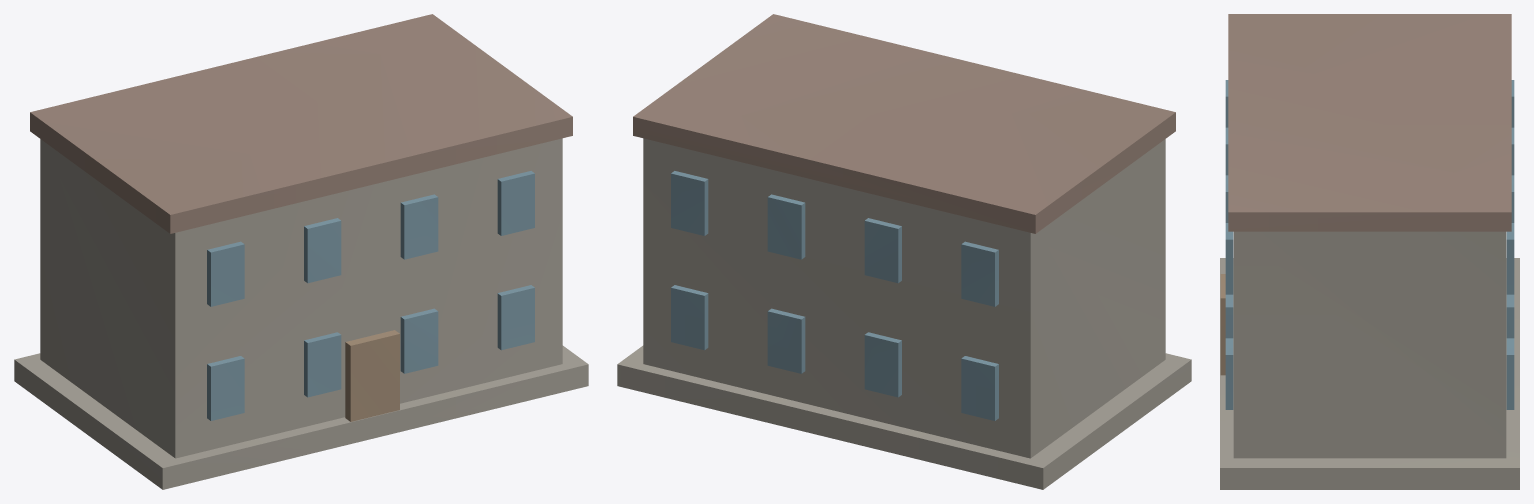
File: warehouse-03.glb
3 views of the same model, side by side, from view 1: azimuth 30°, elevation 25°; view 2: azimuth 150°, elevation 25°; view 3: azimuth 270°, elevation 25° (orthographic).
Parts seen in each view (by area): view 1: world; view 2: world; view 3: world.
Boxes of the visible parts, x1,y1,x2,y2 form: world: (14, 14, 588, 489); world: (617, 14, 1191, 489); world: (1220, 14, 1519, 489).
Size of the model in its own units: 1.64 by 0.99 by 0.99.
